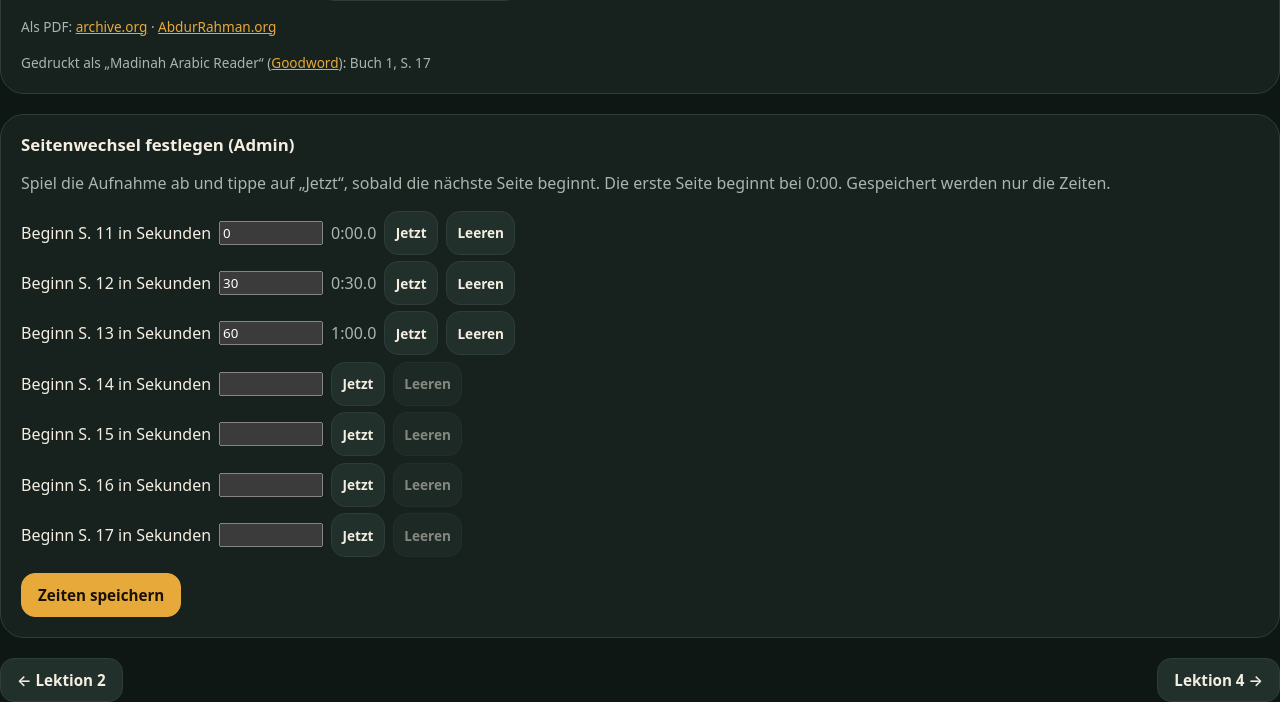
it: Medina book follows the recording › lets admins tap the page turns along and save them
(page scrolled)
Expected: the number field labelled "Beginn S. 14 in Sekunden" is not empty, [219, 372, 323, 396]
Click the button "Jetzt" next to "Beginn S. 14 in Sekunden".
click(358, 384)  # box [331, 362, 385, 406]
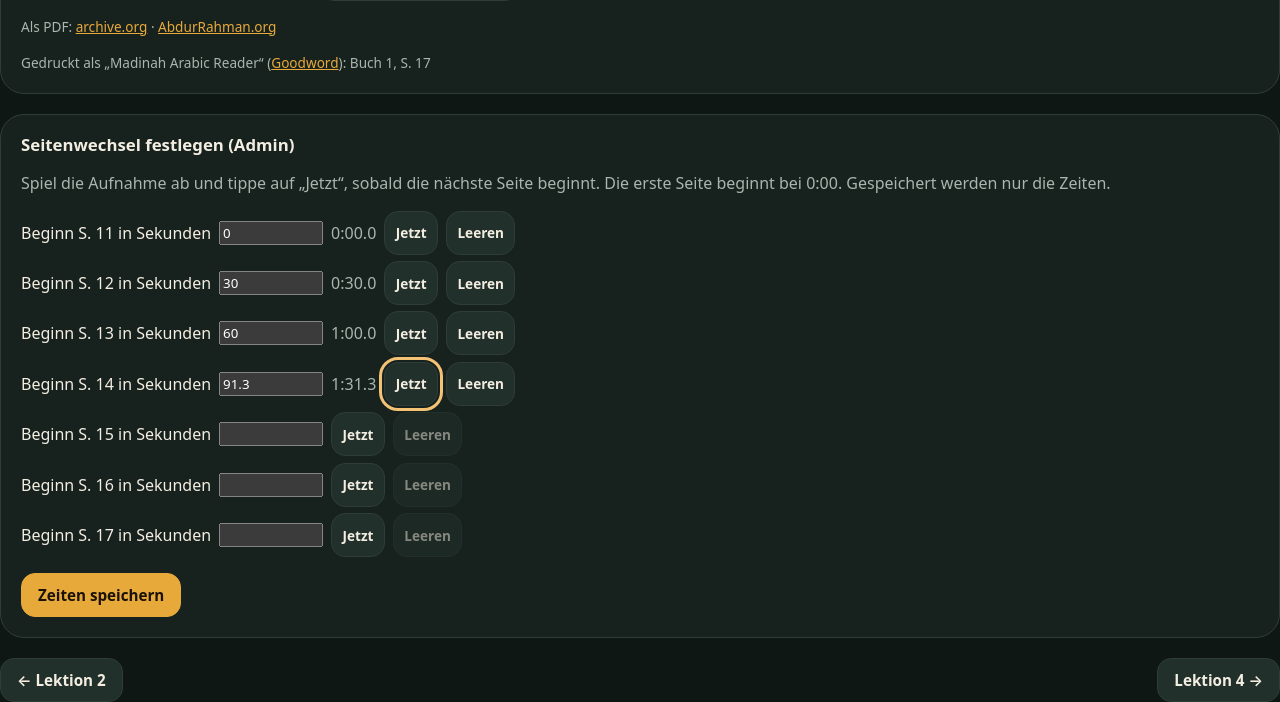
Now the number field labelled "Beginn S. 14 in Sekunden" holds "91.3", box [219, 372, 323, 396]
Now the text "1:31.3" is shown, box [331, 372, 376, 396]
Click the button "Zeiten speichern".
click(101, 595)  # box [21, 573, 181, 617]
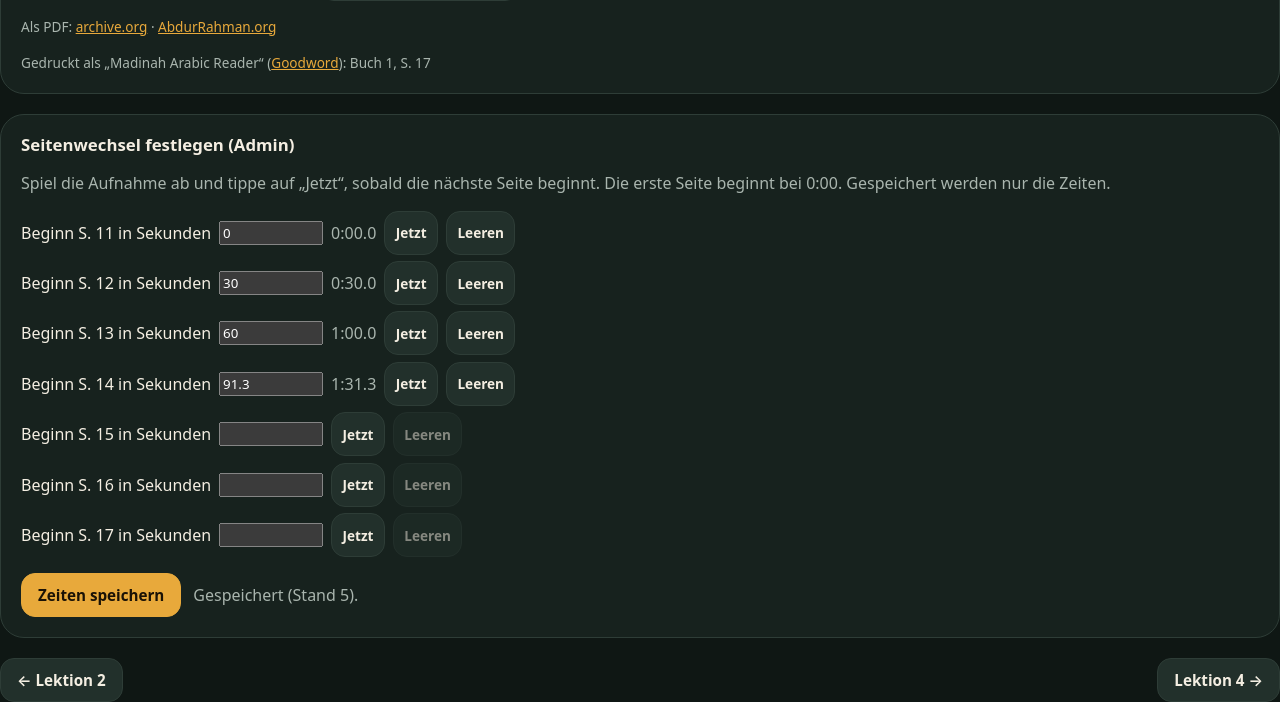
Now the text "Gespeichert (Stand 5)." is shown, box [193, 583, 358, 607]
